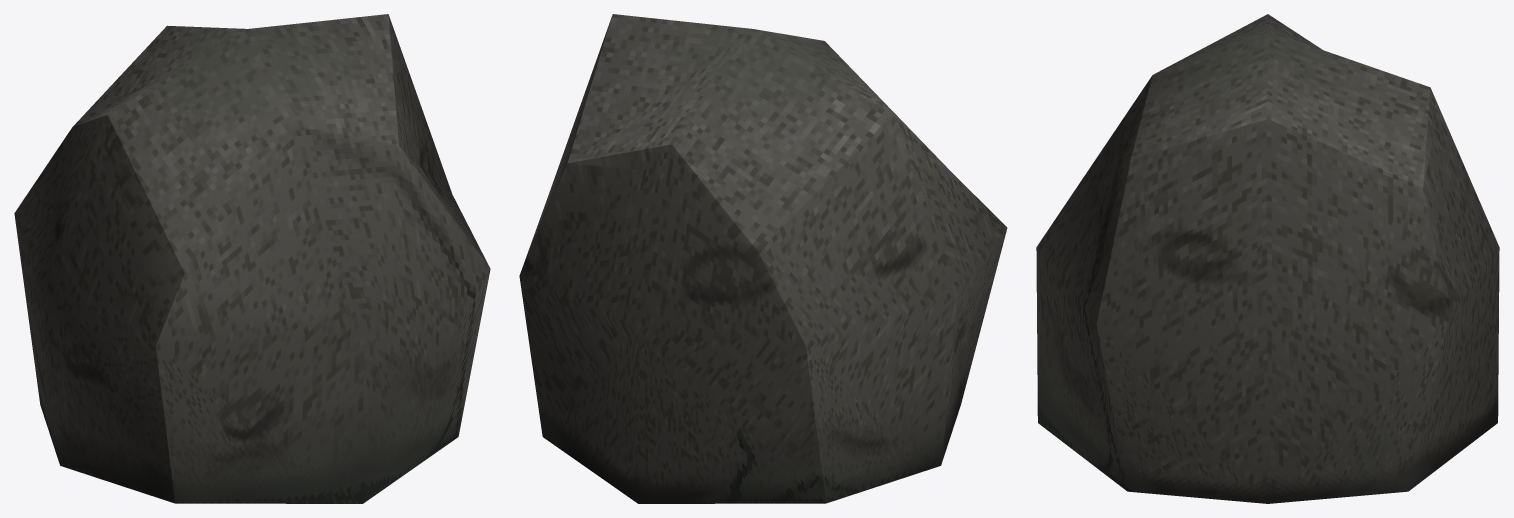
File: rock4.fbx
The picture shows the model from 3 angles, left to right: view 1: azimuth 30°, elevation 25°; view 2: azimuth 150°, elevation 25°; view 3: azimuth 270°, elevation 25°; orthographic projection.
Parts seen in each view (by area): view 1: rock4; view 2: rock4; view 3: rock4.
Boxes of the visible parts, x1=… form: rock4: x1=14, y1=14, x2=490, y2=503; rock4: x1=519, y1=14, x2=1007, y2=503; rock4: x1=1036, y1=14, x2=1499, y2=503.
Size of the model in its own units: 4.7 by 4.29 by 4.6.
